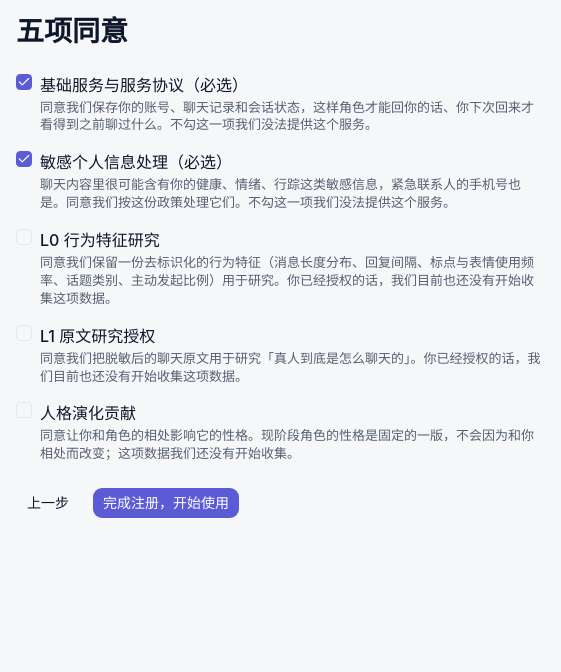
提交失败保留已填内容 + 全屏唯一 28px › 提交失败后渲染「注册没有完成」与「重试提交」，且已填内容一个字段都没清
What coordinates should you click on to do the following:
click the button "完成注册，开始使用"
I would click on:
 (166, 503)
Its box is [92,487,240,519].
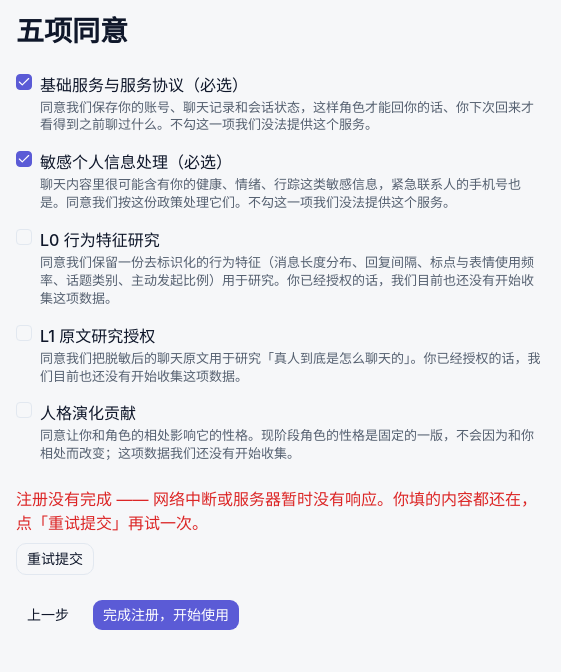
Now the message with test id "register-submit-error" shows "注册没有完成 —— 网络中断或服务器暂时没有响应。你填的内容都还在，点「重试提交」再试一次。", box [16,489,537,533]
Now the button "重试提交" is shown, box [16,543,94,575]
# 退回第一步，账号字段仍是提交前的内容（文案明说「你填的内容都还在」）。
What coordinates should you click on to do the following:
click the button "上一步"
I would click on:
 (48, 615)
Its box is [16,599,80,631].
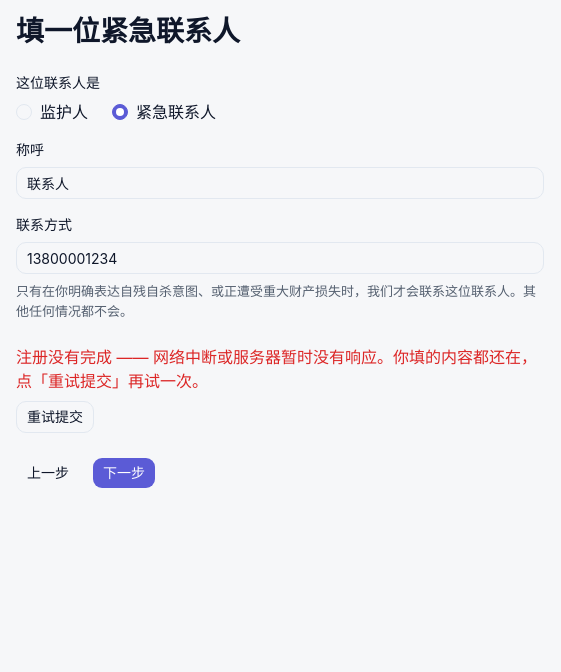
What coordinates should you click on to do the following:
click the button "上一步"
I would click on:
 (48, 473)
Its box is [16,457,80,489].
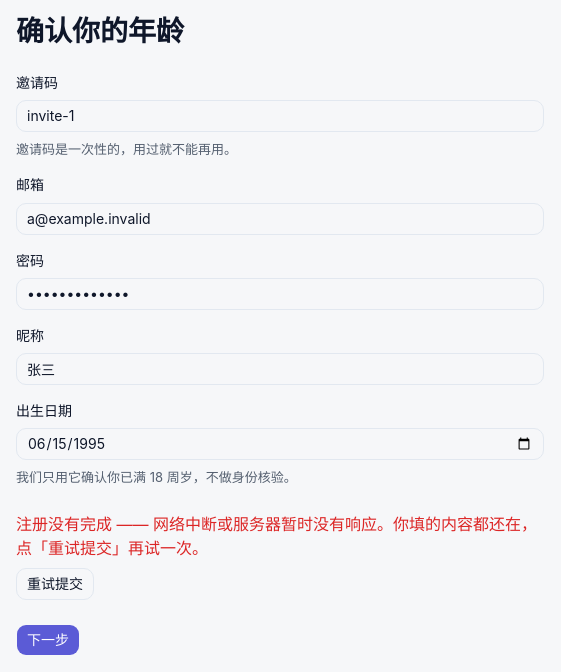
Now the field labelled "邀请码" holds "invite-1", box [16,100,544,132]
Now the field labelled "昵称" holds "张三", box [16,353,544,385]
